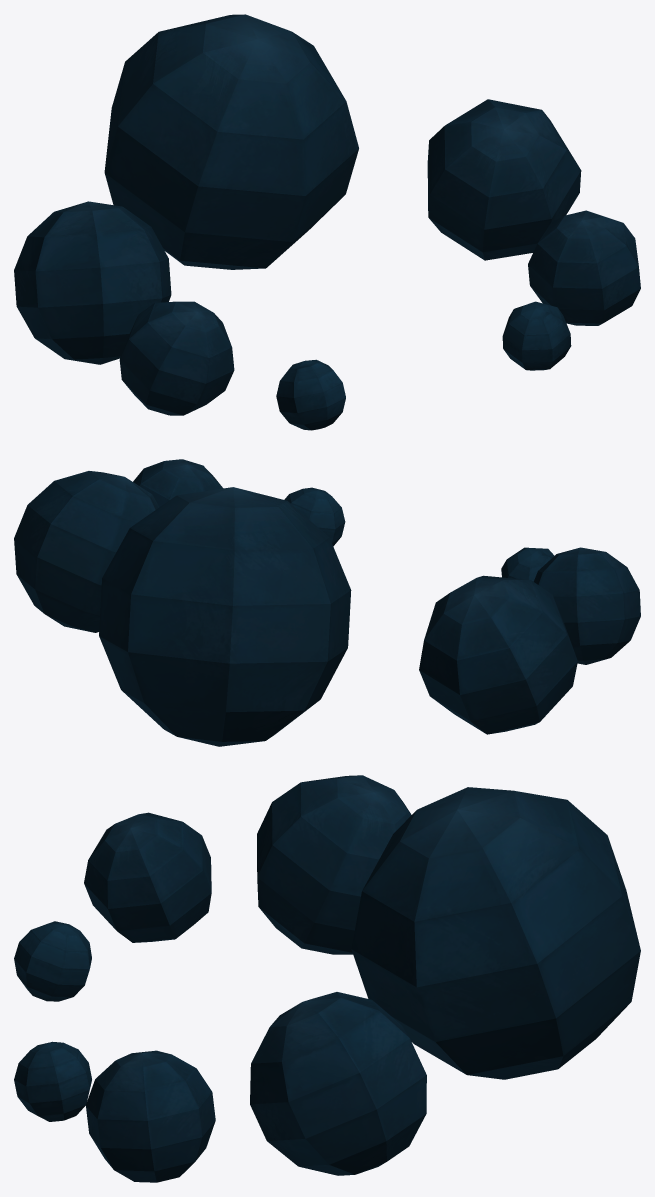
Rendered from ChackpointUV2.fbx.
3 renders of one model, top to bottom at view 1: azimuth 30°, elevation 25°; view 2: azimuth 150°, elevation 25°; view 3: azimuth 270°, elevation 25°, orthographic. The views are drawn at different scales.
Parts seen in each view (by area): view 1: MonolithCheckpoint:polySurface15; view 2: MonolithCheckpoint:polySurface15; view 3: MonolithCheckpoint:polySurface15.
Part boxes in pixels (x1,y1,x2,y2): MonolithCheckpoint:polySurface15: [14, 14, 640, 430]; MonolithCheckpoint:polySurface15: [14, 459, 640, 746]; MonolithCheckpoint:polySurface15: [14, 775, 640, 1182].
Bounding box in the file's own units: 14.42 × 6.03 × 12.84.
